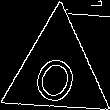O_NE: (29, 38, 85, 104)
